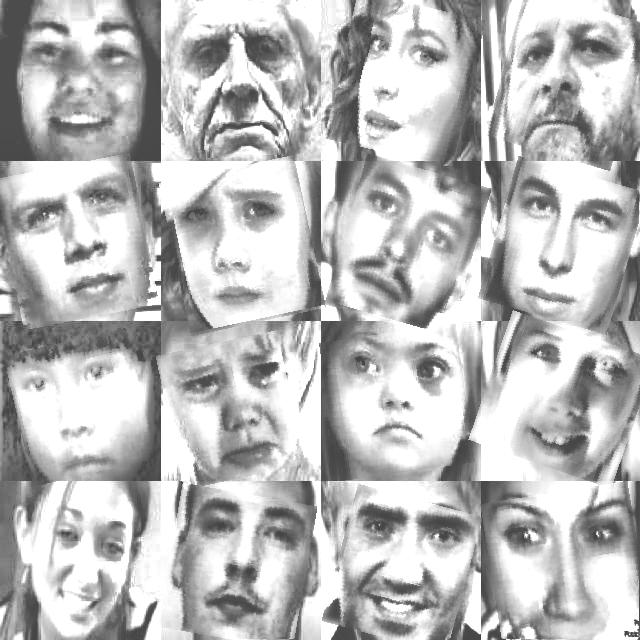fear: (485, 486, 640, 640)
happy: (477, 320, 640, 478), (331, 0, 477, 160), (329, 491, 474, 640), (16, 5, 147, 153)
neutral: (334, 161, 482, 332), (1, 159, 153, 325), (487, 164, 639, 328), (493, 0, 640, 163), (169, 6, 310, 158), (10, 334, 150, 480)
sad: (167, 162, 319, 330), (163, 488, 311, 640), (323, 329, 471, 477), (163, 336, 299, 484)
